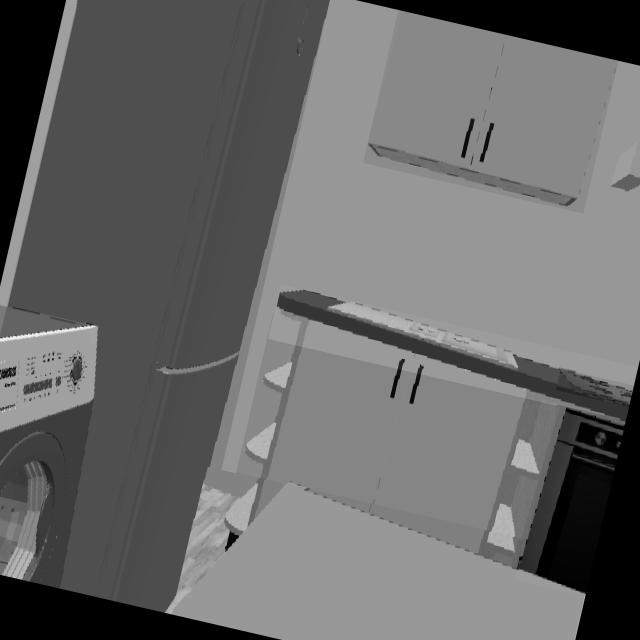cabinet: (225, 319, 564, 568), (367, 10, 618, 209)
countertop: (275, 290, 629, 421)
fridge: (7, 0, 329, 613)
oven: (518, 410, 625, 595)
stove: (559, 369, 632, 406)
table: (171, 485, 583, 640)
